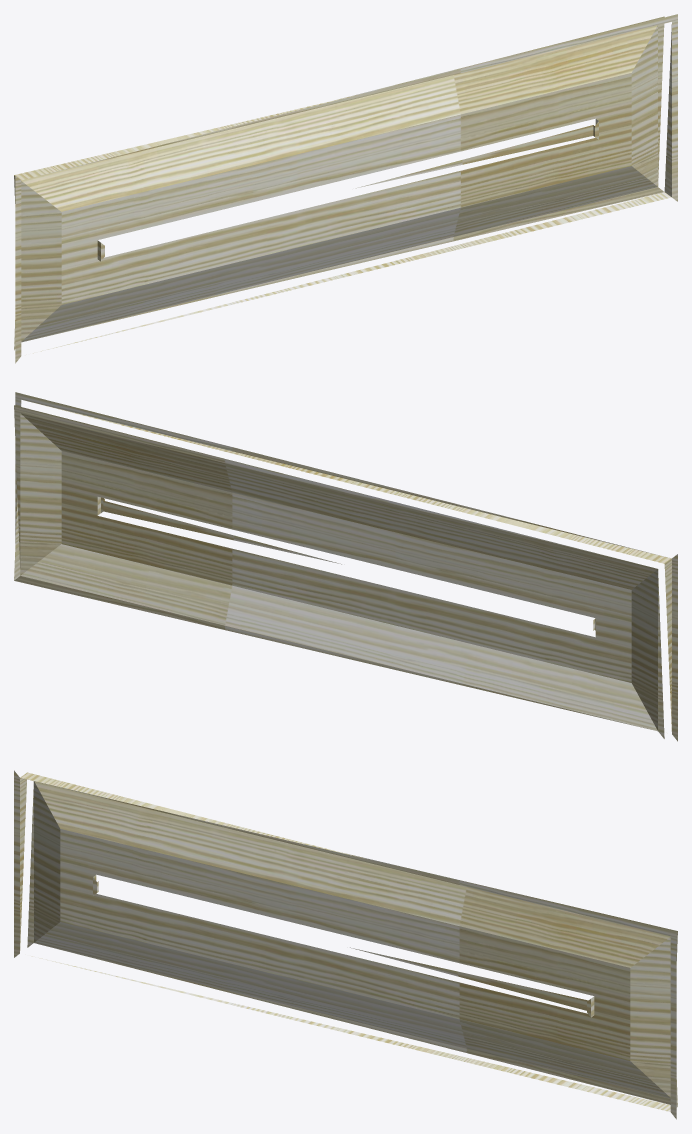
The picture shows the model from 3 angles, top to bottom: view 1: azimuth 30°, elevation 25°; view 2: azimuth 150°, elevation 25°; view 3: azimuth 330°, elevation 25°; orthographic projection.
Bounding box in the file's own units: 0.4117 × 0.1117 × 0.0114.
